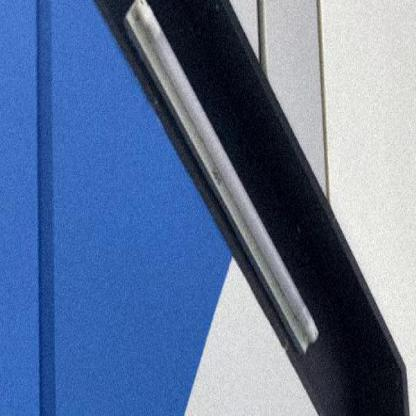light_off: (118, 0, 325, 373)
